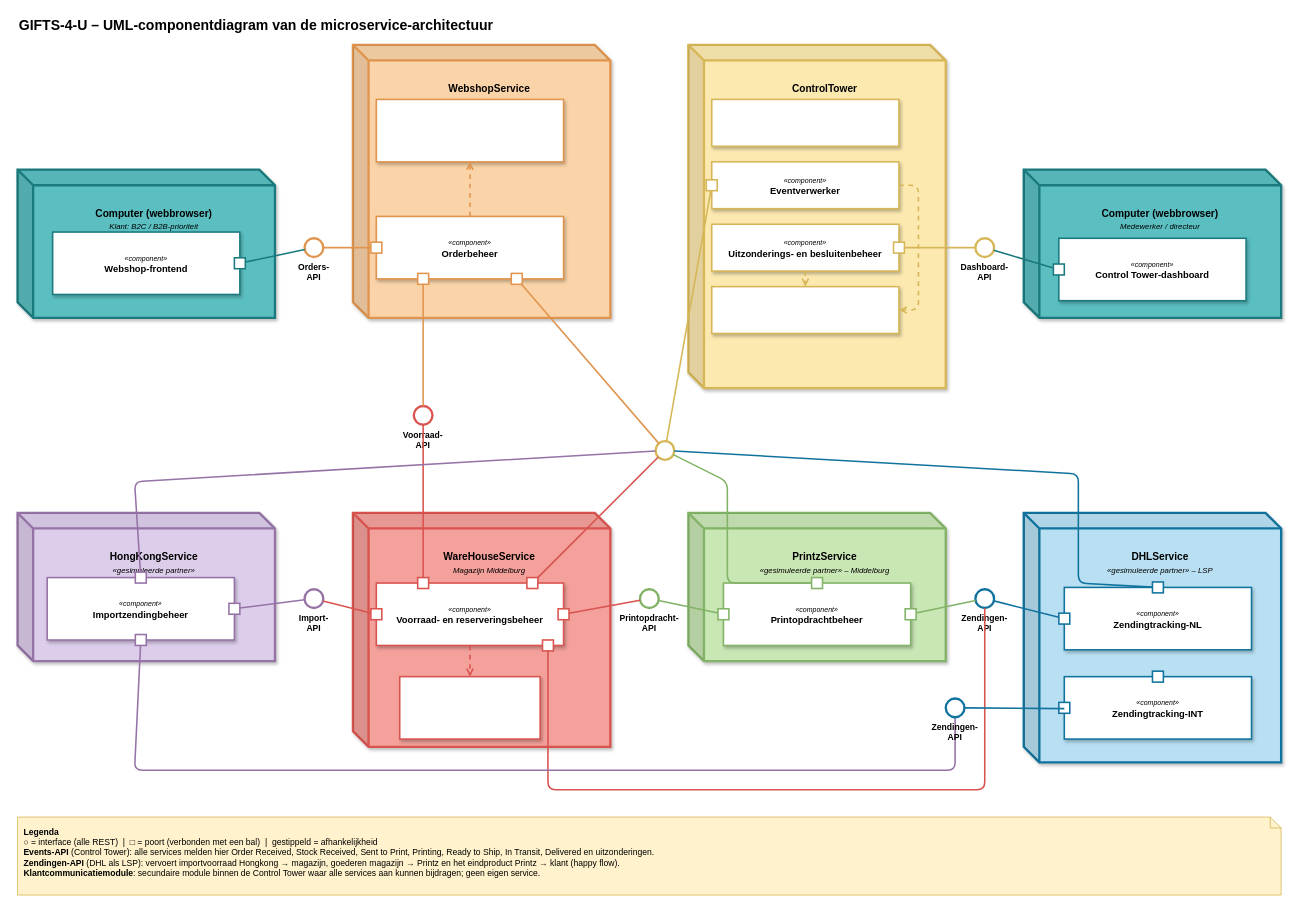
Image size: 1300x909. Some labels were removed from this diagram. Here are the shapes that lost their labels. From the top down, the centre of each, then its label:
the point at 470,131: «component» Orderdatabase
the point at 805,123: «component» Klantcommunicatiemodule
the point at 805,310: «component» Control Tower-database
the point at 664,450: API-gateway
the point at 470,708: «component» Voorraaddatabase
